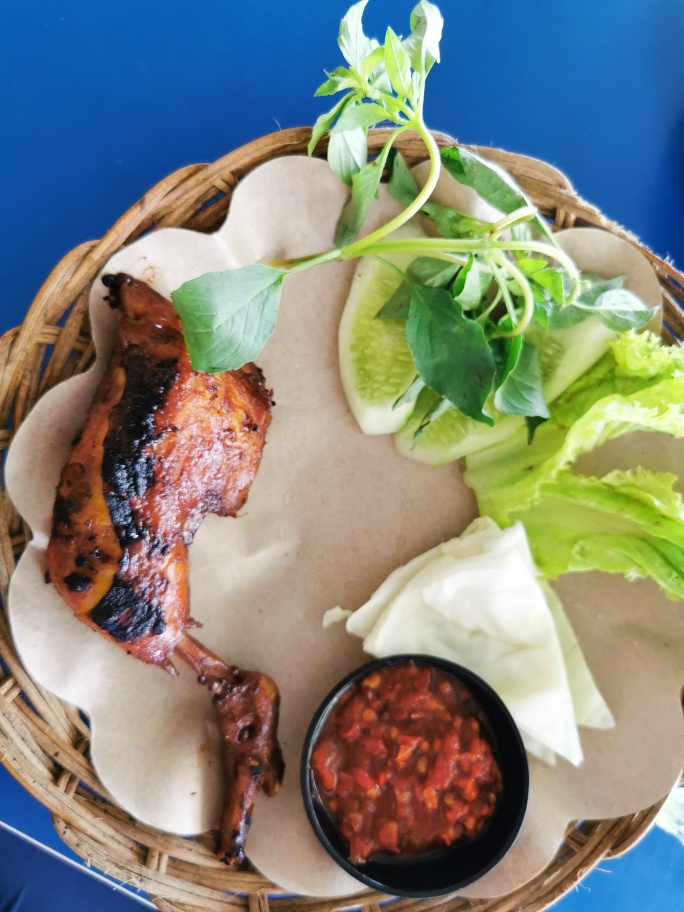ayam bakar: (50, 266, 315, 863)
